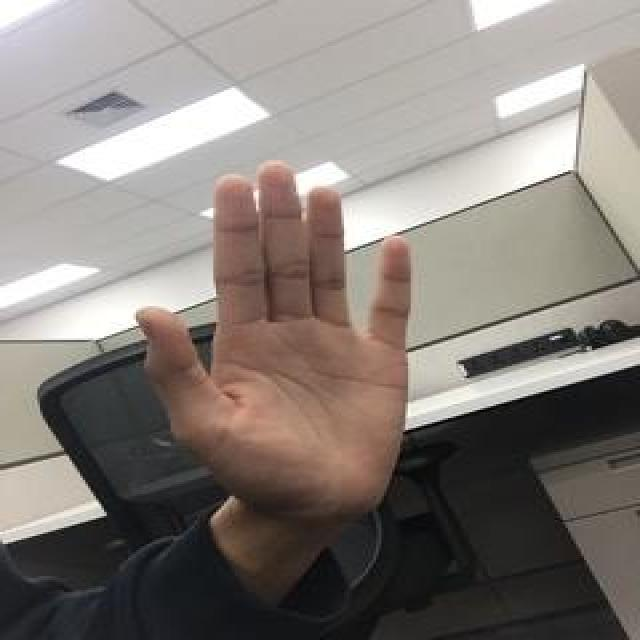no-gloves: (129, 159, 415, 509)
